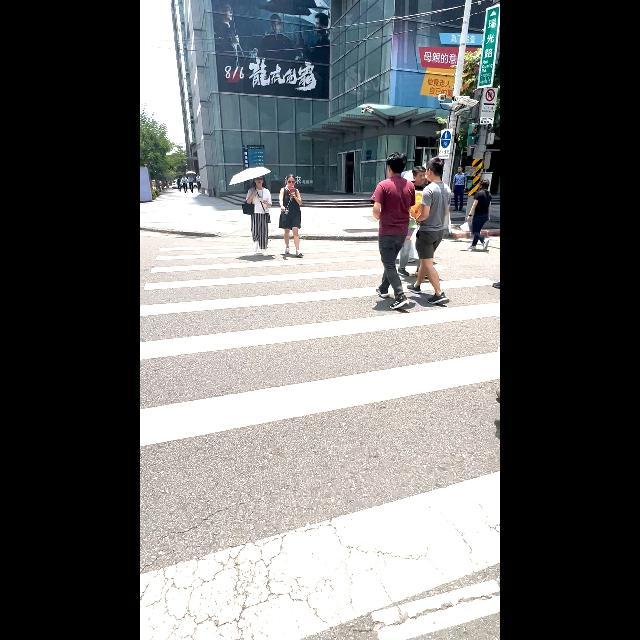sidewalk: (140, 231, 500, 637)
